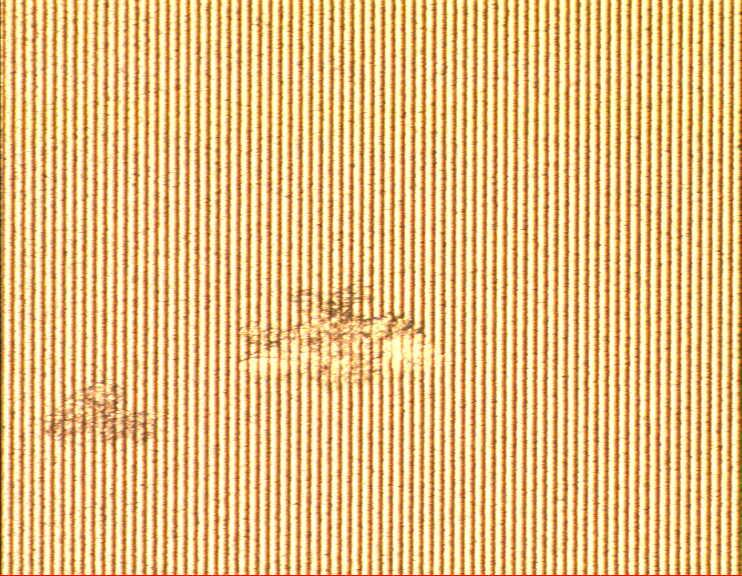SCRATCH: (39, 274, 452, 447)
